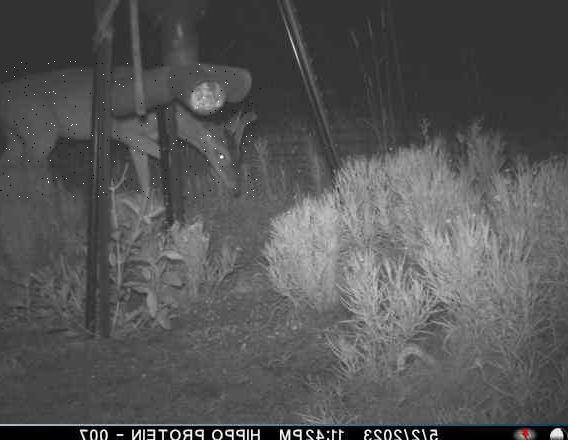Deer: (0, 61, 261, 199)
